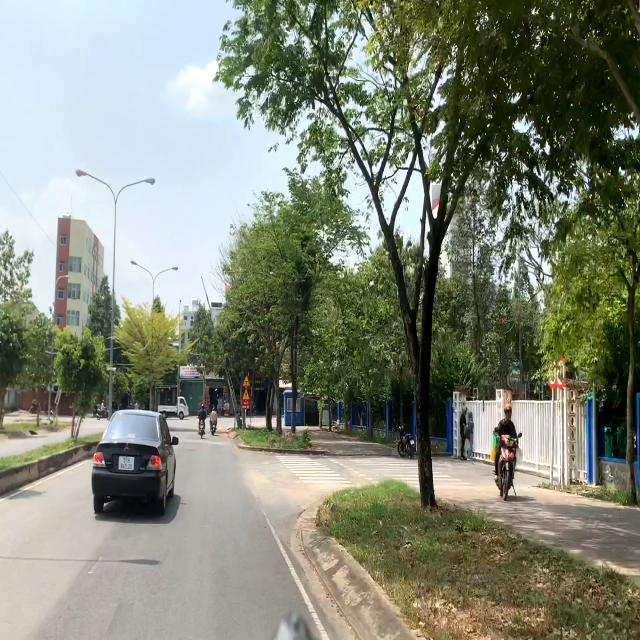W.205d: (242, 374, 251, 387)
W.224: (242, 388, 250, 400)
